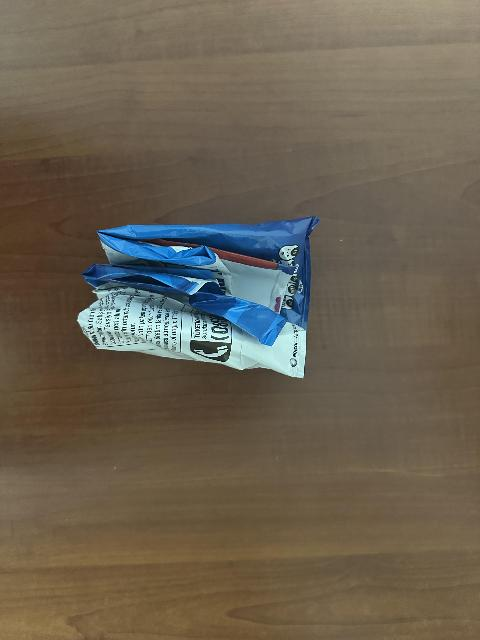Plastik: (79, 211, 321, 370)
